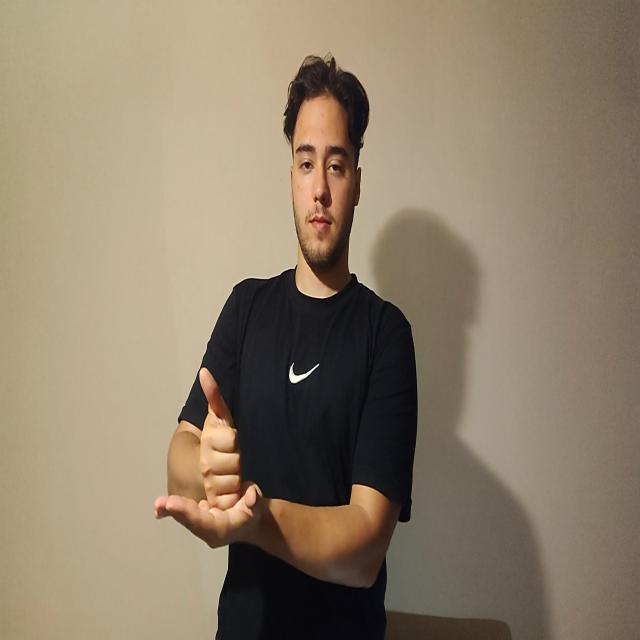help: (151, 368, 265, 550)
